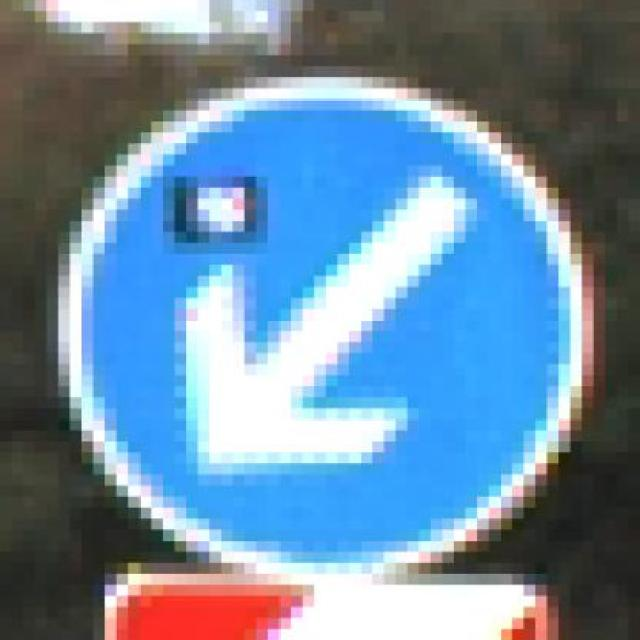Keep-Left: (35, 55, 617, 574)
